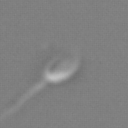normal: (1, 79, 46, 123)
